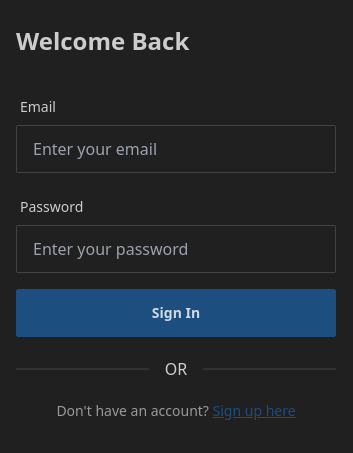
Test: Login Page › should show validation errors for empty fields
This screenshot has width=353, height=453.
Click the submit button.
click(176, 313)  # box x1=16 y1=289 x2=336 y2=337
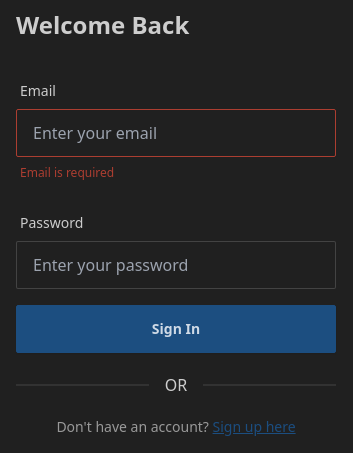
Now the text with class "label-text-alt" reads "Email is required", box x1=20 y1=164 x2=114 y2=181
